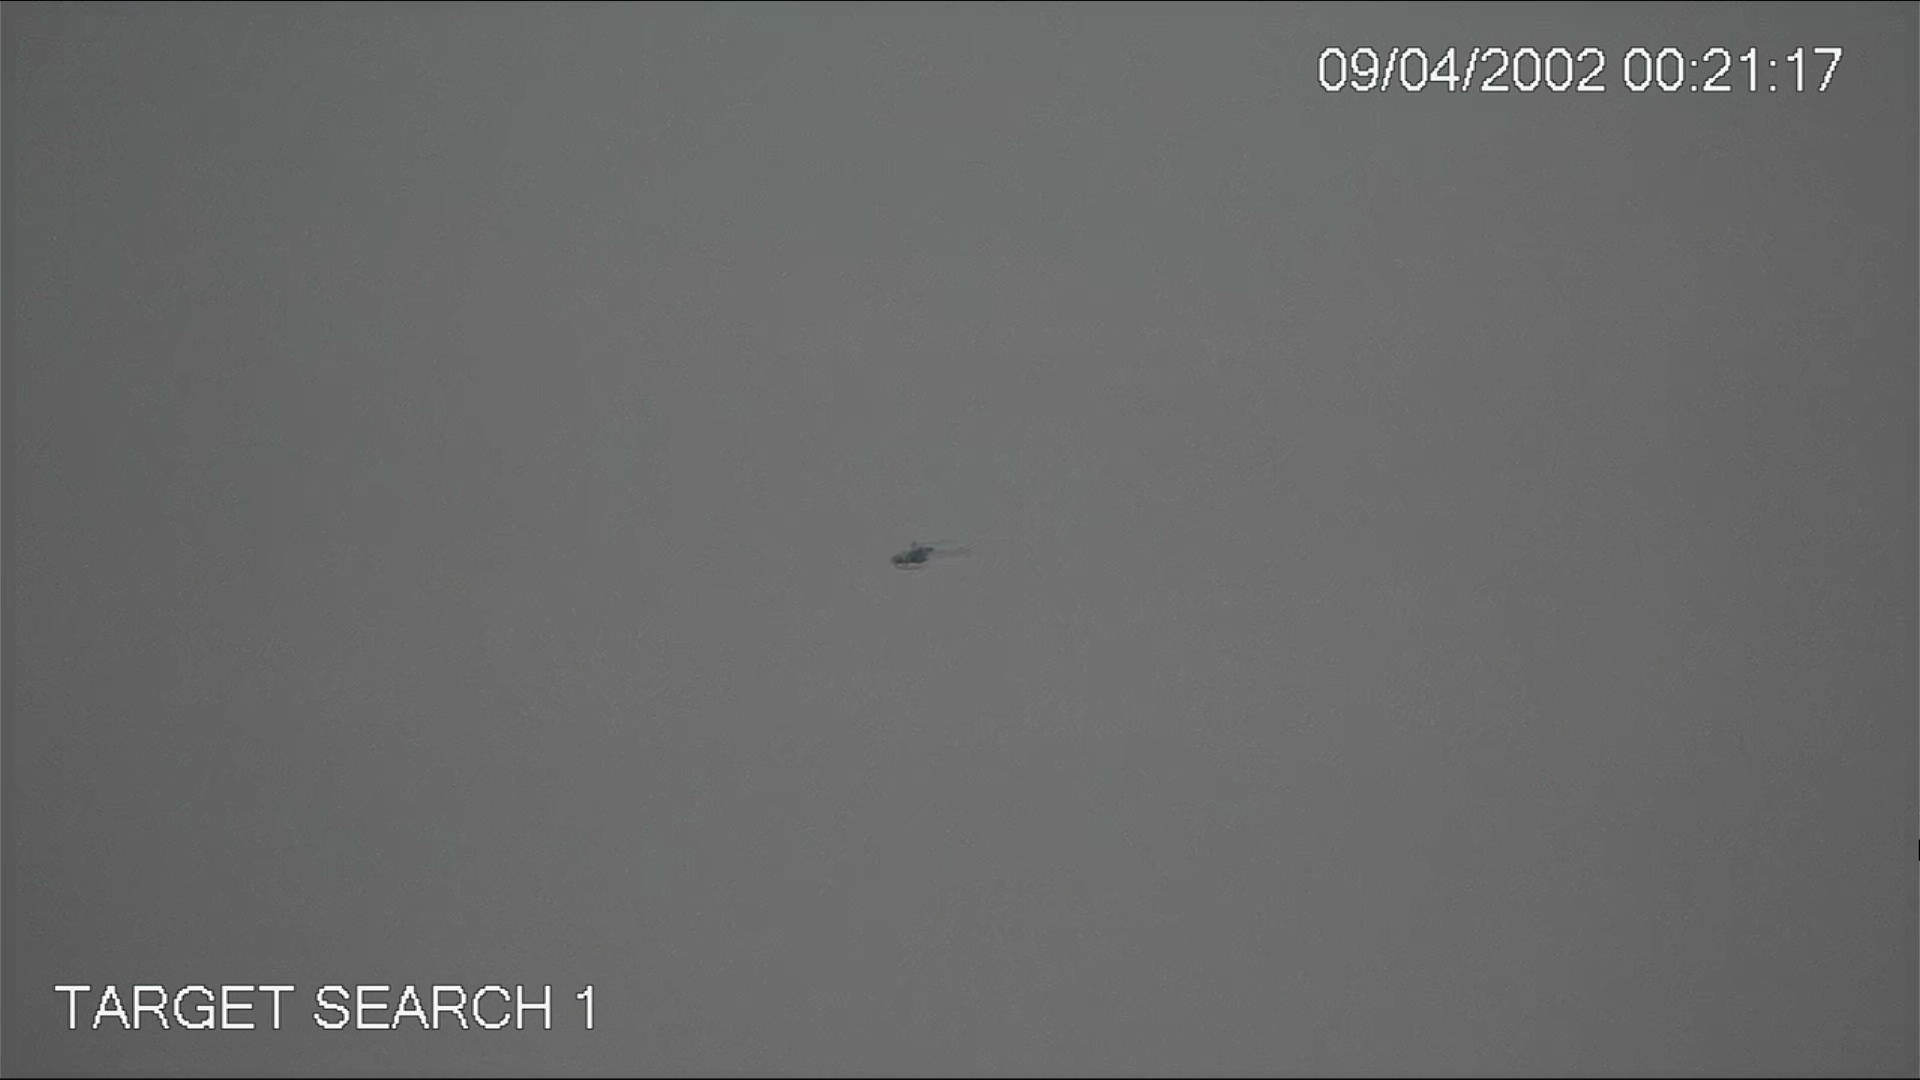SU_30: (884, 541, 938, 571)
